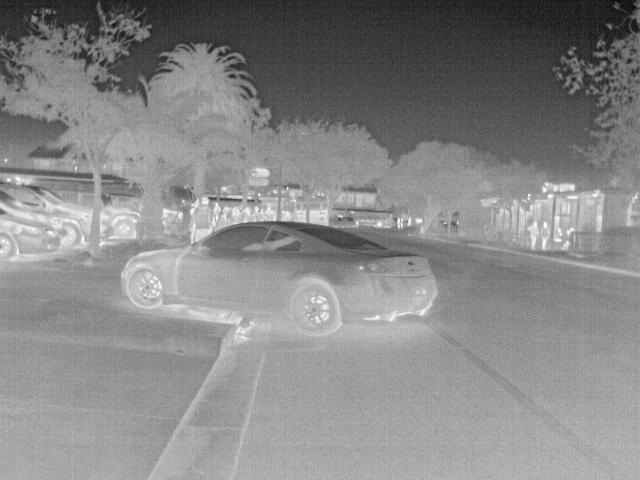car: (121, 220, 440, 336), (3, 183, 93, 249), (3, 207, 64, 261), (100, 203, 142, 244), (161, 206, 183, 234), (339, 214, 360, 228)
person: (191, 195, 214, 243), (537, 219, 552, 253), (528, 220, 541, 250), (560, 226, 575, 252), (212, 203, 224, 222), (552, 225, 565, 242), (263, 206, 276, 222), (251, 206, 264, 222), (279, 209, 293, 222), (406, 215, 413, 227), (399, 216, 406, 228), (395, 214, 401, 228)
